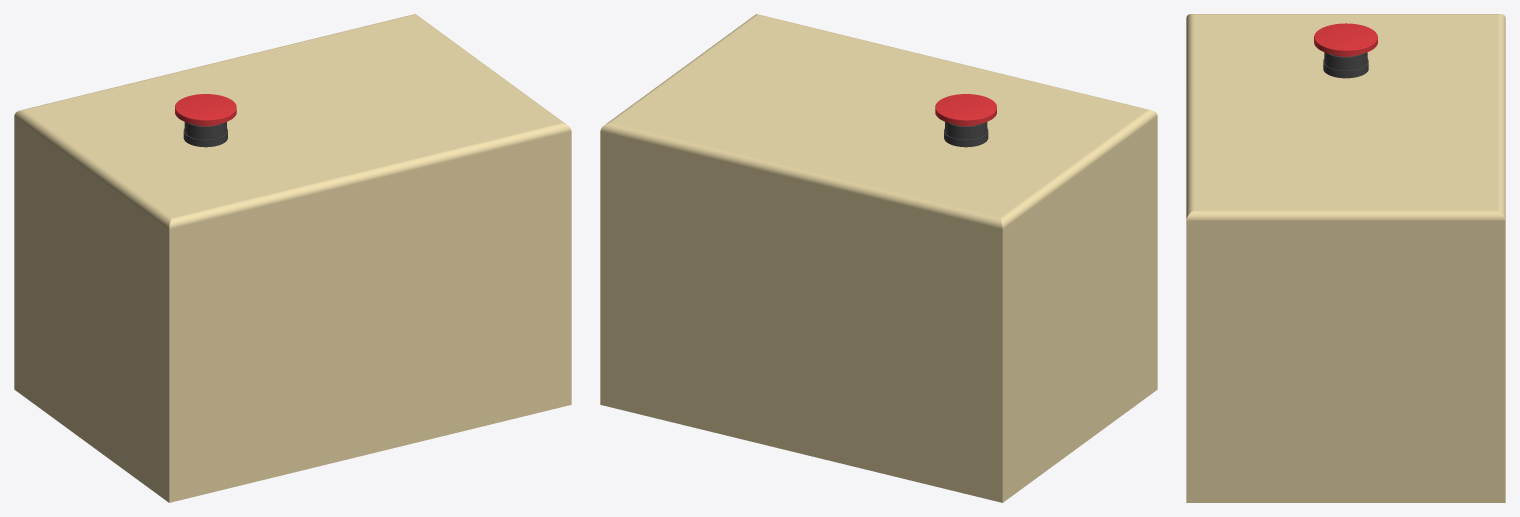
3 views of the same model, side by side, from view 1: azimuth 30°, elevation 25°; view 2: azimuth 150°, elevation 25°; view 3: azimuth 270°, elevation 25° (orthographic). The views are drawn at different scales.
Parts seen in each view (by area): view 1: Part 1, Part 4, Part 3; view 2: Part 1, Part 4, Part 3; view 3: Part 1, Part 4, Part 3.
Boxes of the visible parts, x1,y1,x2,y2 form: Part 1: (14, 14, 571, 502); Part 4: (175, 94, 236, 126); Part 3: (183, 122, 227, 147); Part 1: (600, 14, 1157, 502); Part 4: (935, 94, 996, 126); Part 3: (944, 122, 988, 147); Part 1: (1186, 14, 1505, 502); Part 4: (1314, 23, 1377, 56); Part 3: (1323, 52, 1368, 78).
Size of the model in its own units: 0.3 by 0.2 by 0.2231.
